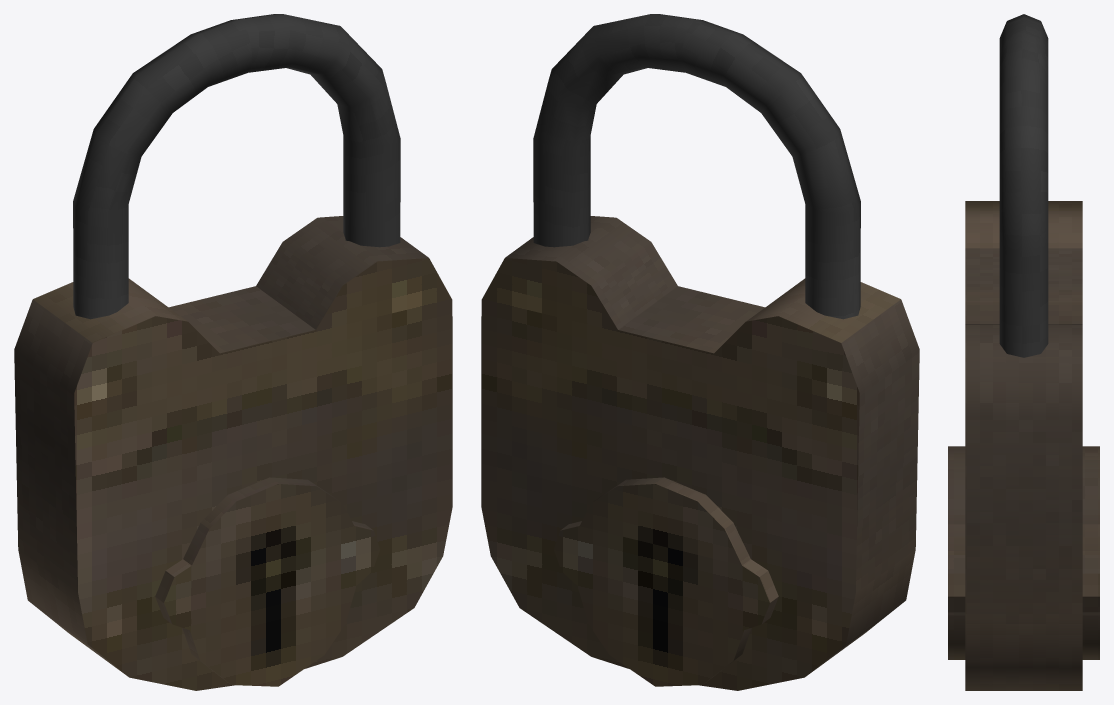
File: padlock_1.glb
3 views of the same model, side by side, from view 1: azimuth 30°, elevation 25°; view 2: azimuth 150°, elevation 25°; view 3: azimuth 270°, elevation 25° (orthographic). The views are drawn at different scales.
Parts seen in each view (by area): view 1: padlock_1, padlock_1_shackle; view 2: padlock_1, padlock_1_shackle; view 3: padlock_1, padlock_1_shackle.
Boxes of the visible parts, left/top/right/bottom form: padlock_1: left=14, top=216, right=452, bottom=690; padlock_1_shackle: left=73, top=14, right=400, bottom=319; padlock_1: left=481, top=216, right=919, bottom=690; padlock_1_shackle: left=533, top=14, right=860, bottom=319; padlock_1: left=948, top=201, right=1099, bottom=690; padlock_1_shackle: left=999, top=14, right=1048, bottom=357.
Size of the model in its own units: 0.062 by 0.0999 by 0.022.
1 material, 1 textured.
